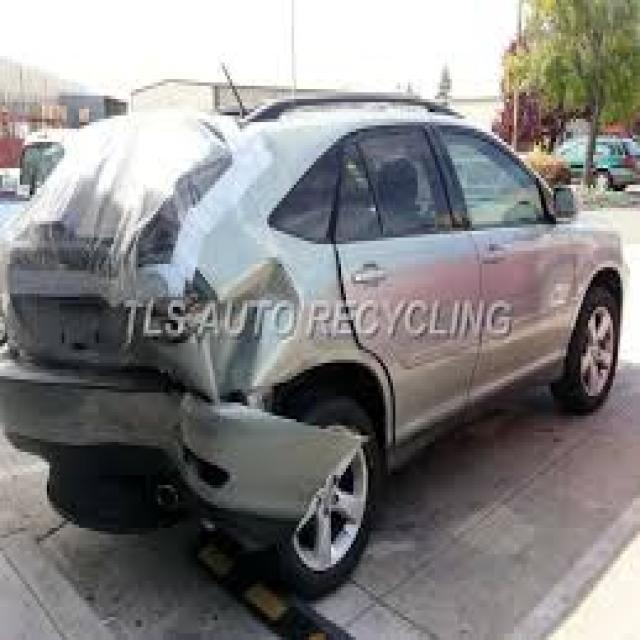moderate: (0, 242, 269, 493)
